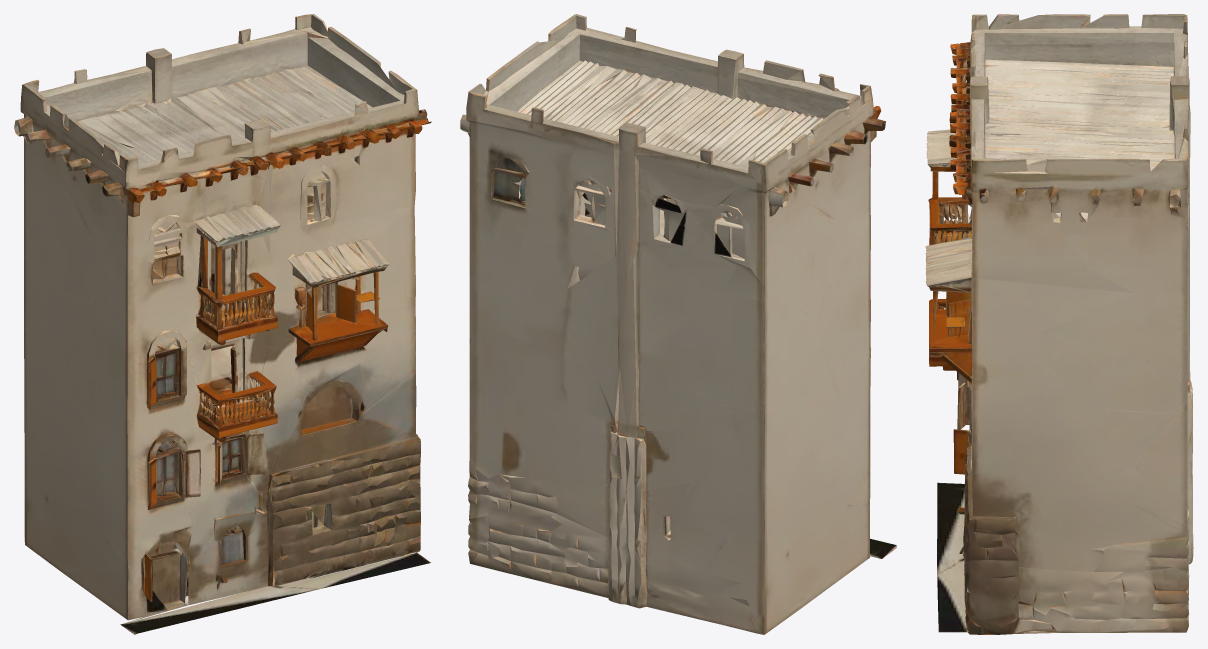
Rendered from bldg2.glb.
The picture shows the model from 3 angles, left to right: view 1: azimuth 30°, elevation 25°; view 2: azimuth 150°, elevation 25°; view 3: azimuth 270°, elevation 25°; orthographic projection. The views are drawn at different scales.
Bounding box in the file's own units: 1.41 × 1.9 × 0.9715.
1 material, 1 textured.
